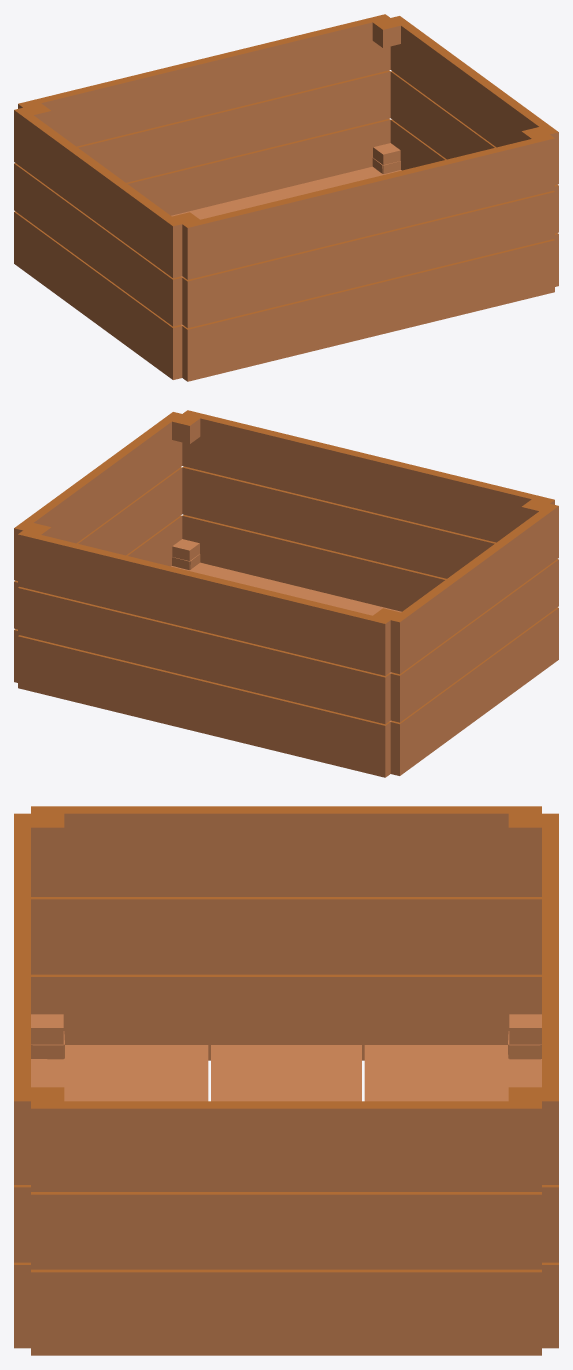
File: Props_BoxFrame_01.fbx
3 views of the same model, one above another, from view 1: azimuth 30°, elevation 25°; view 2: azimuth 150°, elevation 25°; view 3: azimuth 270°, elevation 25° (orthographic). The views are drawn at different scales.
Parts seen in each view (by area): view 1: Props_BoxFrame_01; view 2: Props_BoxFrame_01; view 3: Props_BoxFrame_01.
Part boxes in pixels (<box>): Props_BoxFrame_01: <box>14,14,558,381</box>; Props_BoxFrame_01: <box>14,410,558,777</box>; Props_BoxFrame_01: <box>14,806,558,1355</box>.
Size of the model in its own units: 198 by 75.54 by 151.
